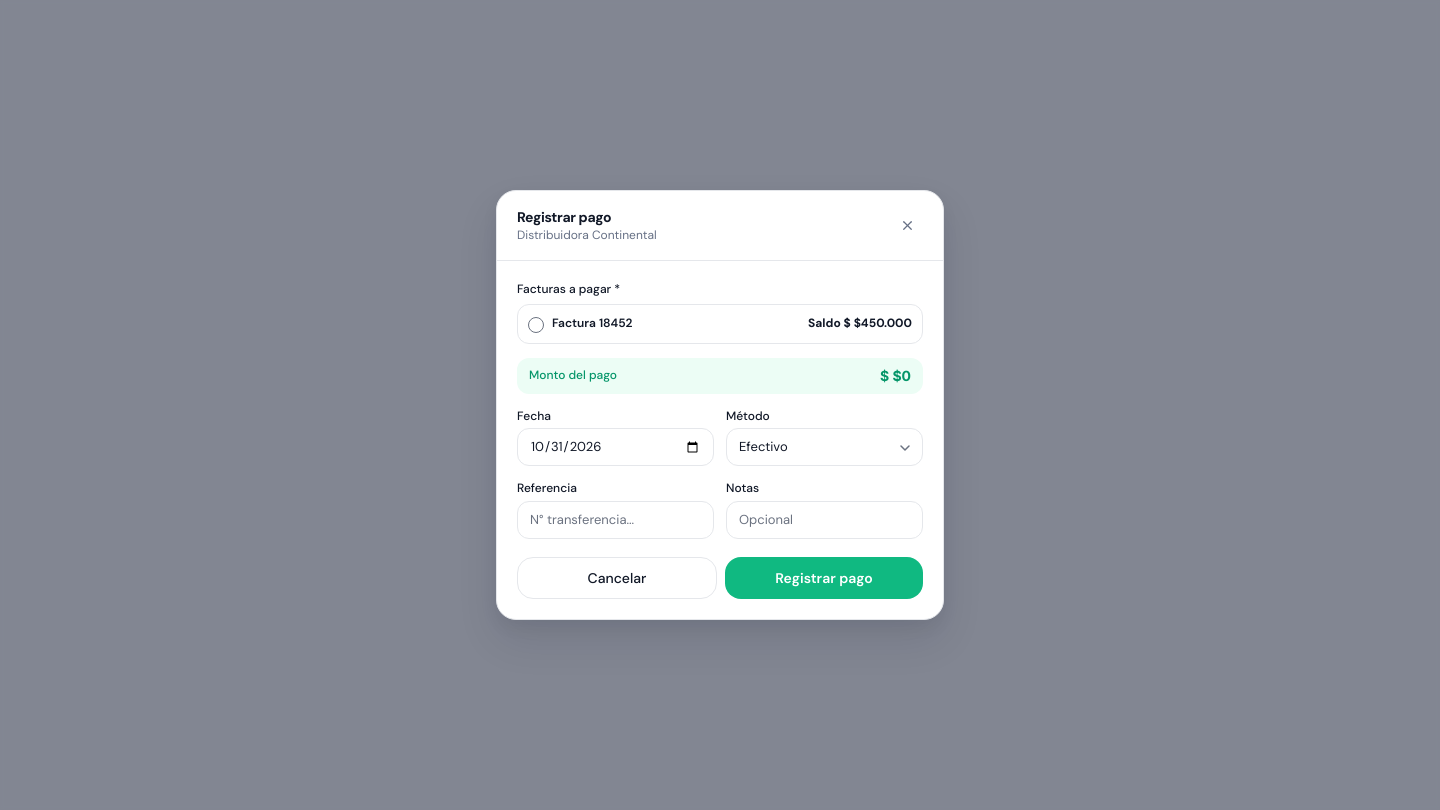
Escenario 5 — pago parcial › rechaza si el monto asignado a una factura supera su saldo pendiente
Click the checkbox labelled "Factura 18452 Saldo $ $450.000" at [536, 324], box [528,316,544,332]
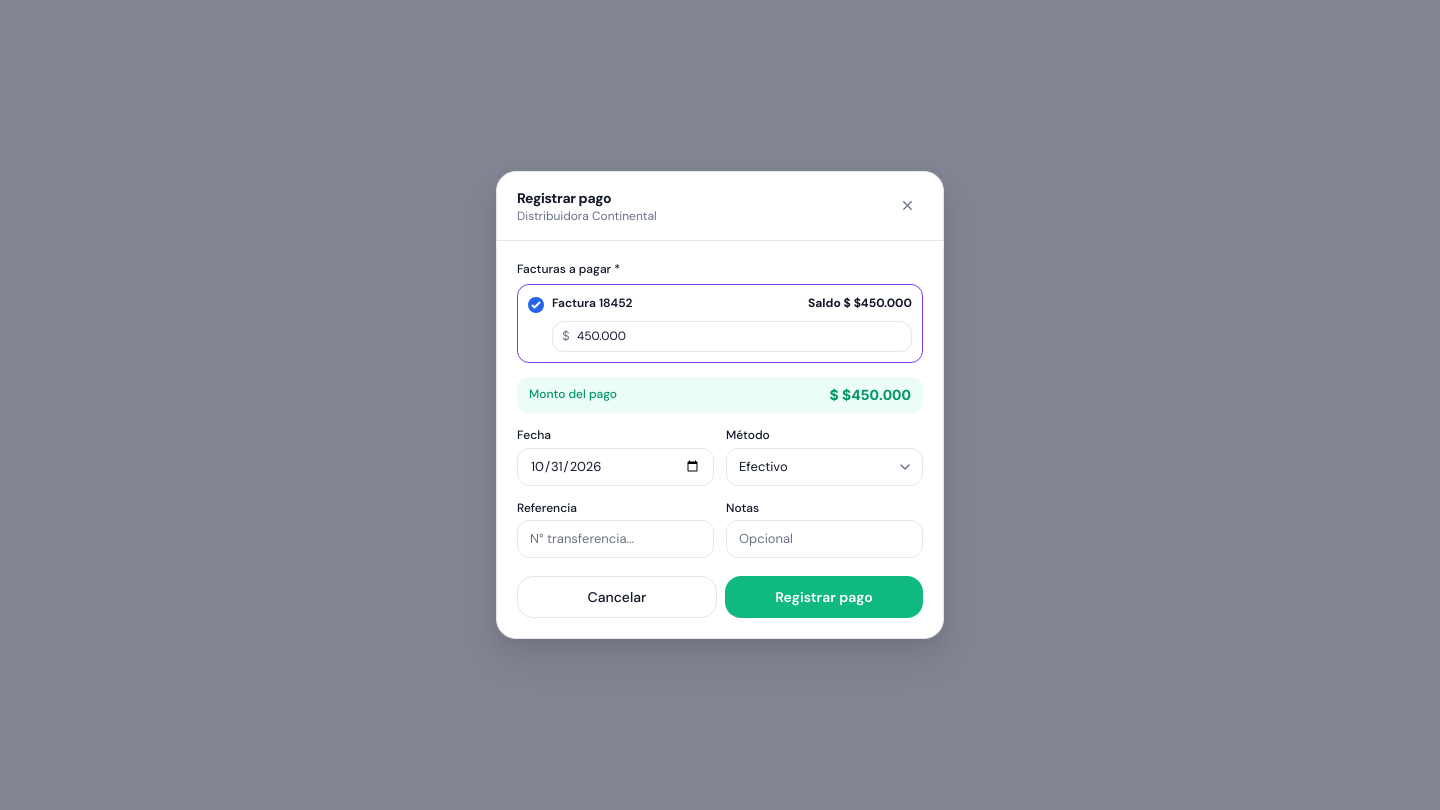
Replace the text in the 1st field with "999999" at [732, 336], box [552,321,912,352]
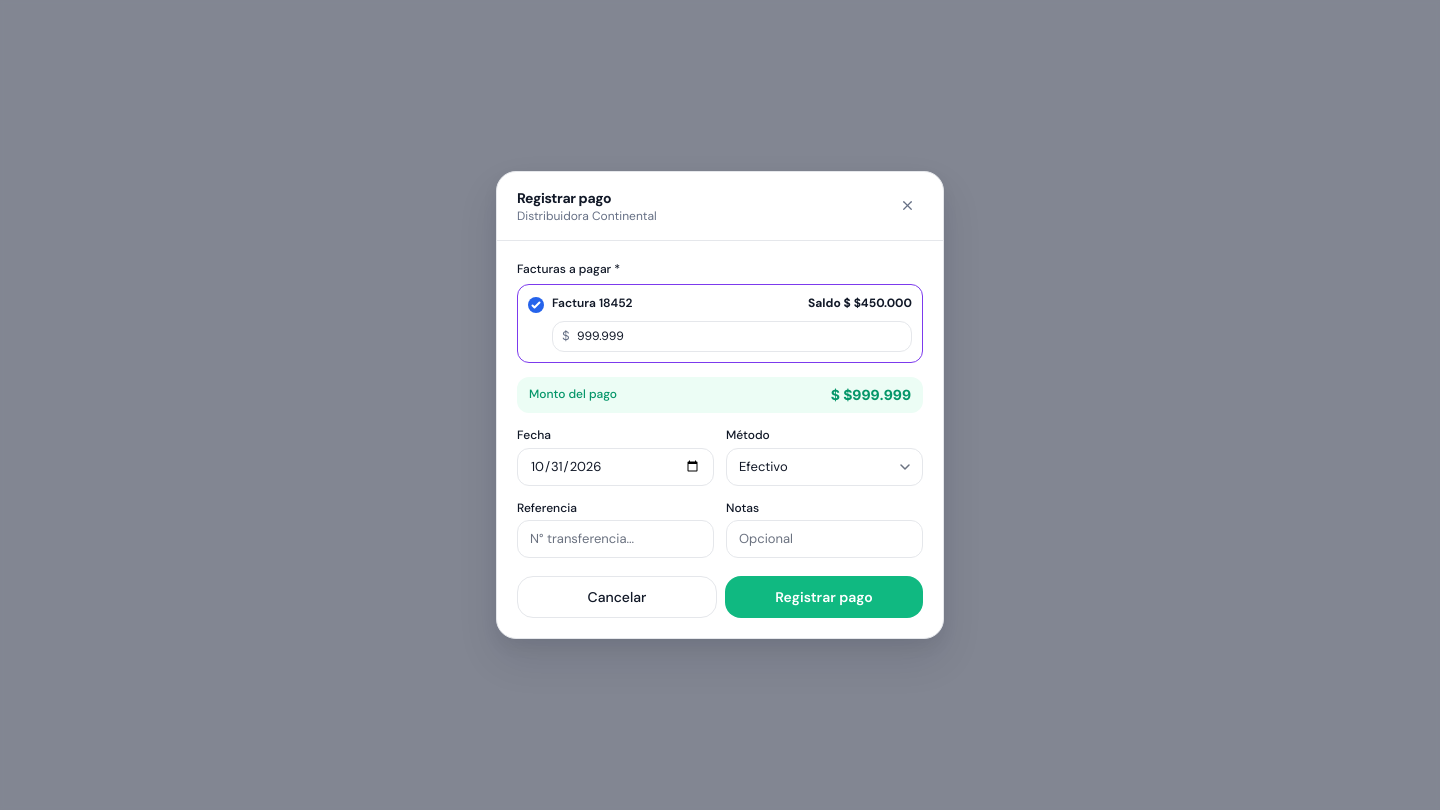
Click the button "Registrar pago" at [824, 598], box [725,576,923,618]
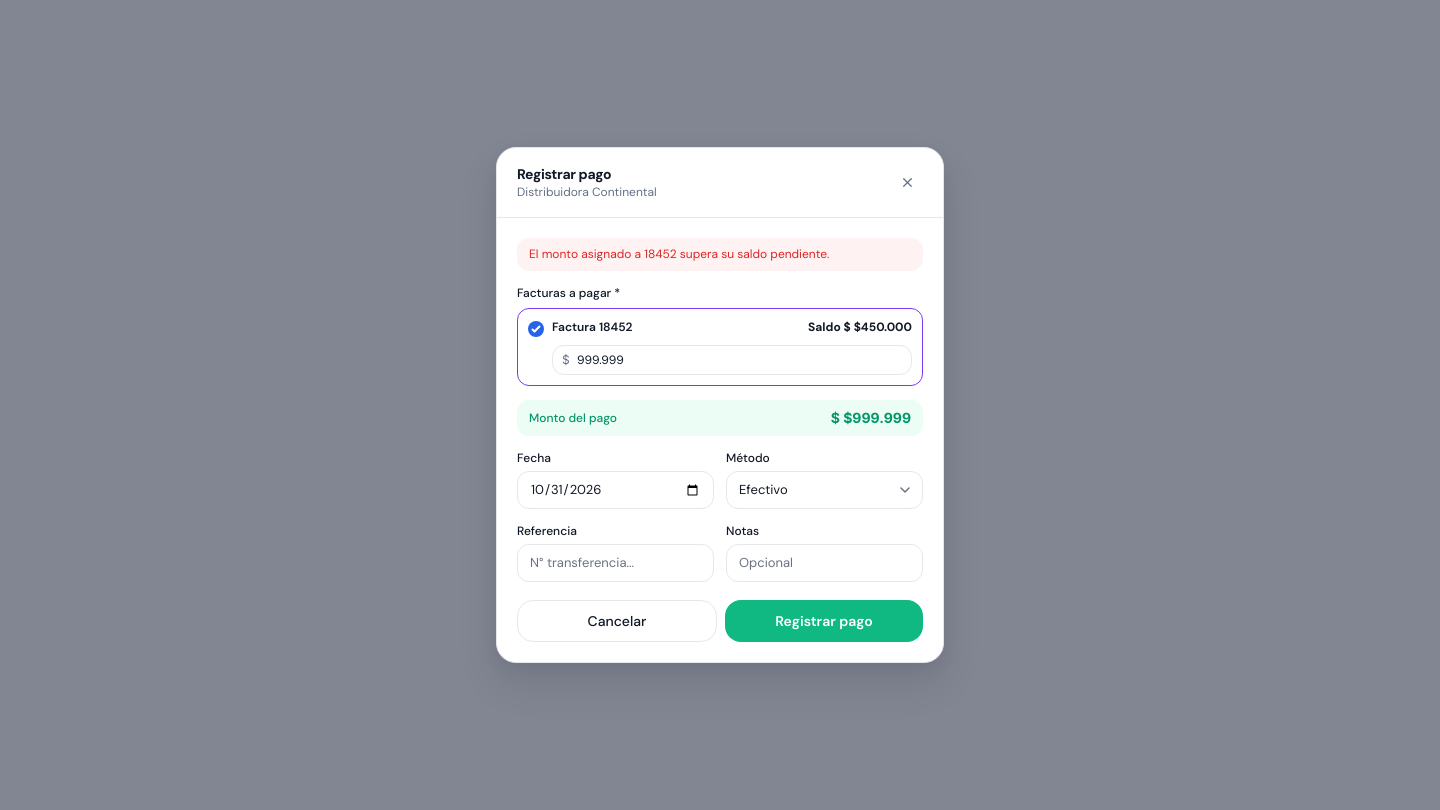
Result: the text "El monto asignado a 18452 supera su saldo pendiente." is shown at [517,238,923,271]
